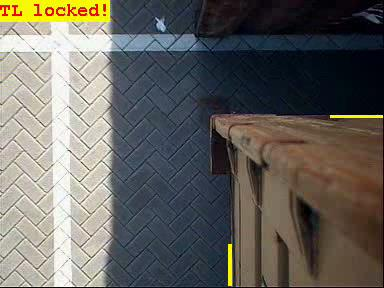groundmarker_2: (143, 108, 273, 192)
